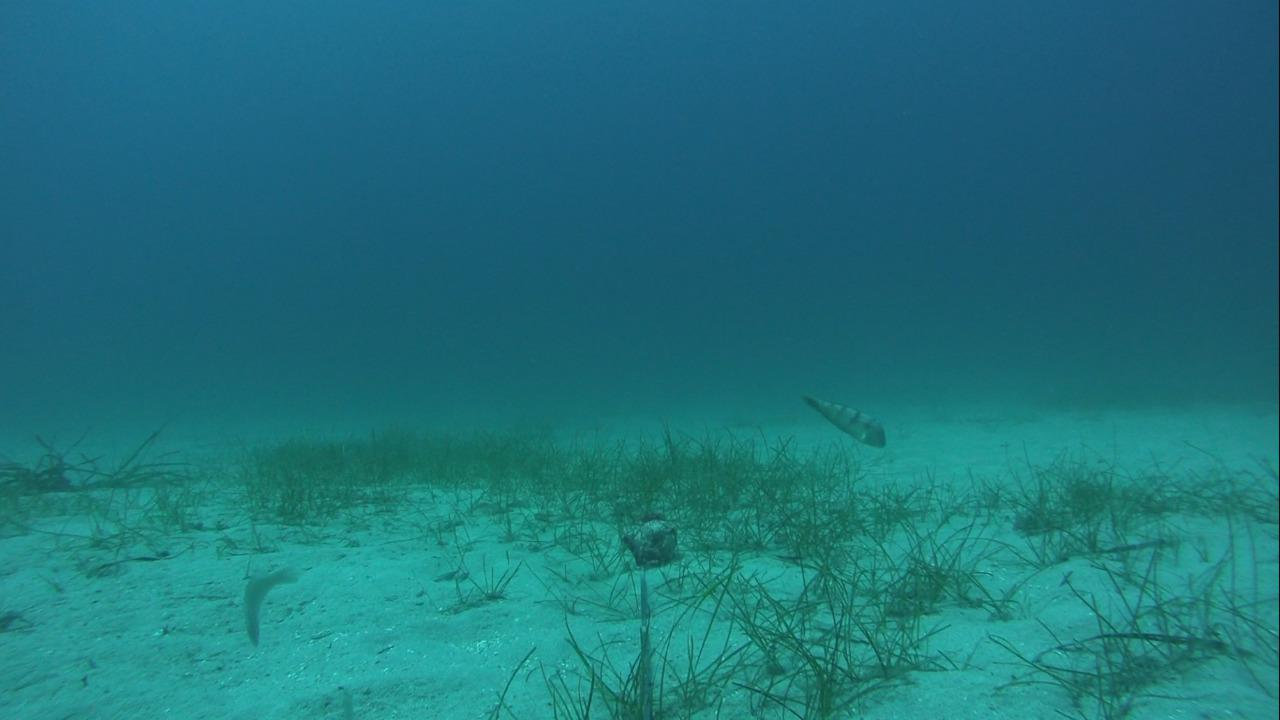raor: (791, 390, 890, 449), (238, 568, 300, 646)
